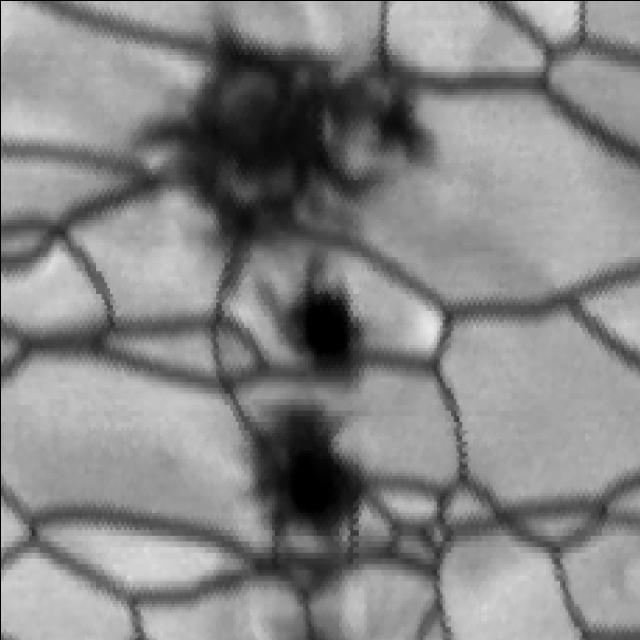good_void: (136, 29, 445, 246), (239, 405, 367, 540), (278, 260, 375, 367)
